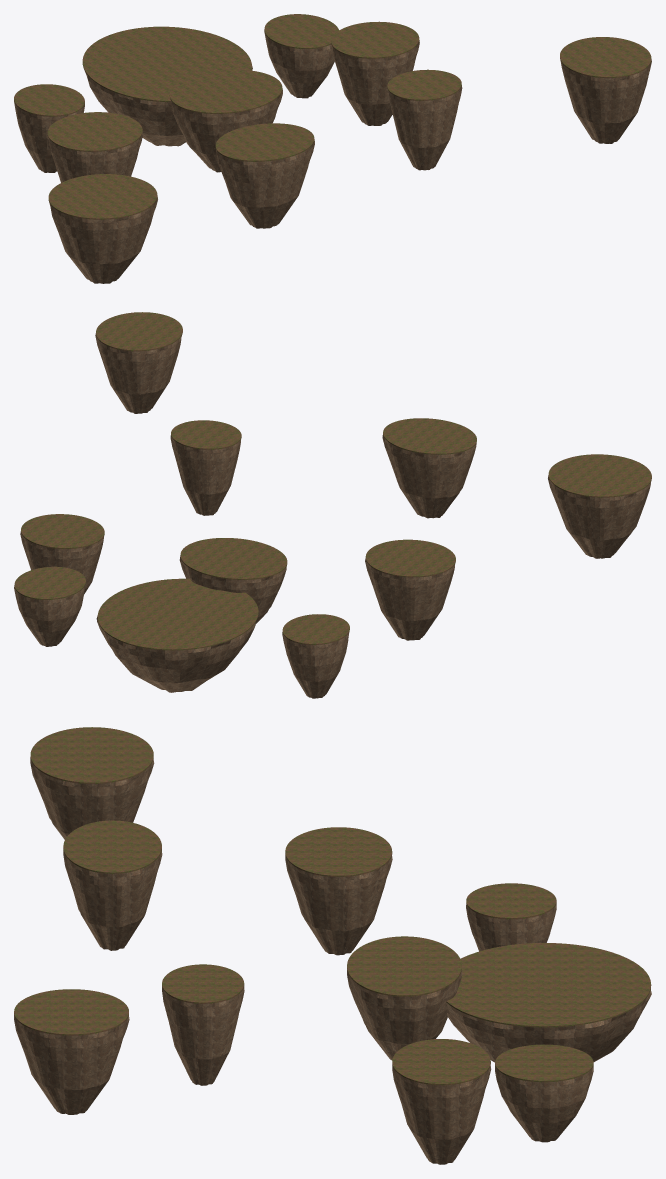
File: solid-island-geology.glb
3 views of the same model, one above another, from view 1: azimuth 30°, elevation 25°; view 2: azimuth 150°, elevation 25°; view 3: azimuth 270°, elevation 25° (orthographic). The views are drawn at different scales.
Parts seen in each view (by area): view 1: Main solid earth, Distant 5 solid earth, Distant 3 solid earth, Distant 4 solid earth, Barn plateau solid earth, Distant 0 solid earth, Distant 2 solid earth, Distant 1 solid earth, West outpost solid earth, East outpost solid earth; view 2: Main solid earth, Distant 5 solid earth, Distant 3 solid earth, Distant 1 solid earth, Distant 4 solid earth, Barn plateau solid earth, Distant 2 solid earth, West outpost solid earth, Distant 0 solid earth, East outpost solid earth; view 3: Main solid earth, Distant 4 solid earth, Distant 5 solid earth, Barn plateau solid earth, Distant 1 solid earth, Distant 3 solid earth, Distant 0 solid earth, Distant 2 solid earth, West outpost solid earth, East outpost solid earth.
Part boxes in pixels (bbox=[...]): Main solid earth: bbox=[82, 26, 252, 146]; Distant 5 solid earth: bbox=[48, 174, 157, 283]; Distant 3 solid earth: bbox=[215, 123, 314, 228]; Distant 4 solid earth: bbox=[560, 37, 651, 143]; Barn plateau solid earth: bbox=[169, 69, 282, 172]; Distant 0 solid earth: bbox=[331, 21, 419, 125]; Distant 2 solid earth: bbox=[387, 69, 462, 170]; Distant 1 solid earth: bbox=[47, 112, 143, 182]; West outpost solid earth: bbox=[264, 14, 338, 98]; East outpost solid earth: bbox=[14, 84, 84, 172]; Main solid earth: bbox=[96, 578, 258, 692]; Distant 5 solid earth: bbox=[548, 454, 651, 558]; Distant 3 solid earth: bbox=[382, 418, 476, 518]; Distant 1 solid earth: bbox=[365, 539, 455, 640]; Distant 4 solid earth: bbox=[95, 312, 182, 413]; Barn plateau solid earth: bbox=[179, 538, 287, 623]; Distant 2 solid earth: bbox=[170, 420, 241, 515]; West outpost solid earth: bbox=[14, 566, 85, 646]; Distant 0 solid earth: bbox=[20, 514, 104, 594]; East outpost solid earth: bbox=[282, 614, 349, 698]; Main solid earth: bbox=[446, 943, 651, 1062]; Distant 4 solid earth: bbox=[14, 989, 129, 1114]; Distant 5 solid earth: bbox=[30, 727, 154, 839]; Barn plateau solid earth: bbox=[347, 936, 462, 1060]; Distant 1 solid earth: bbox=[285, 827, 392, 955]; Distant 3 solid earth: bbox=[63, 820, 162, 950]; Distant 0 solid earth: bbox=[392, 1039, 491, 1164]; Distant 2 solid earth: bbox=[162, 964, 244, 1085]; West outpost solid earth: bbox=[495, 1044, 593, 1142]; East outpost solid earth: bbox=[466, 883, 556, 951].
Bounding box in the file's own units: 194 × 52.97 × 155.
2 materials, 2 textured.
